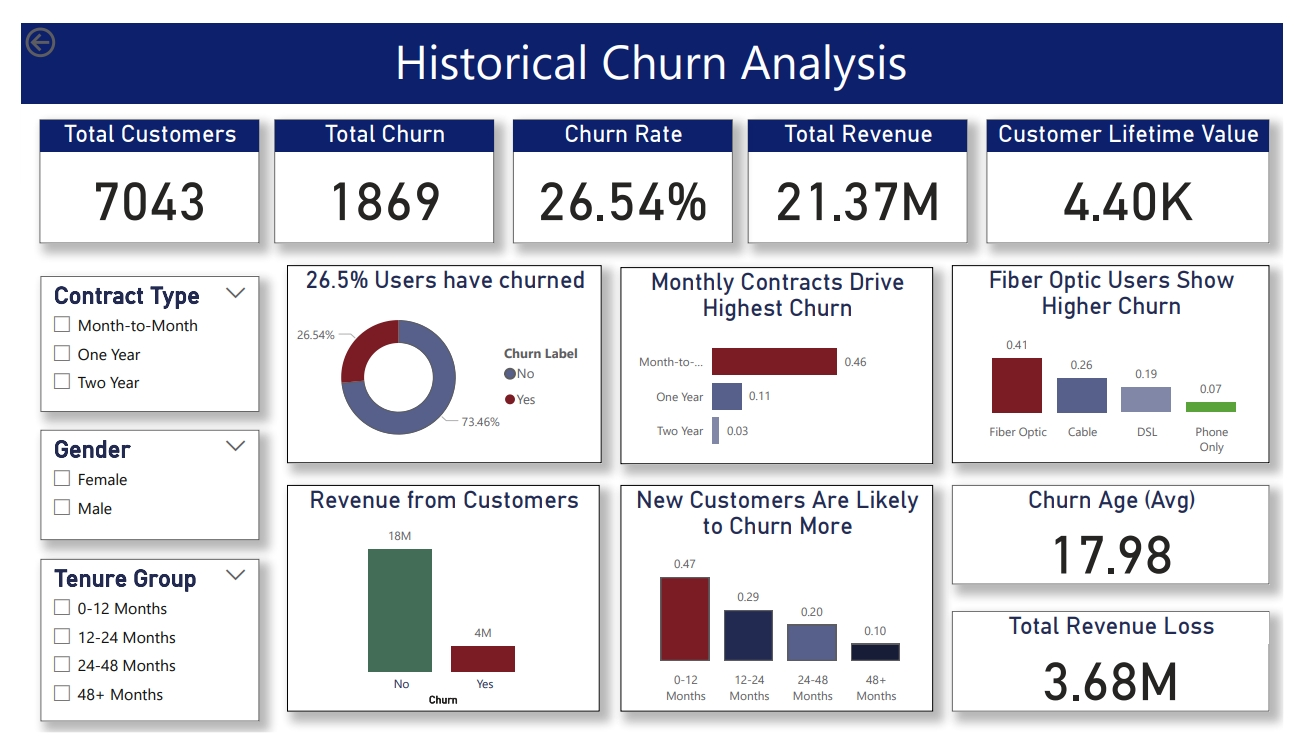

The page's visual inventory and layout, read from the dashboard file:
{"tool":"powerbi","page":{"name":"Overview","canvas":[1280,720],"ordinal":0},"visuals":[{"type":"card","title":"Total Customers","fields":{"Values":["Count(Fact_Churn.Customer ID)"]},"box":[18.9,97.9,222.6,126.3],"z":0},{"type":"textbox","box":[0,0,1279,82.1],"z":1000},{"type":"actionButton","box":[0,0,100,40],"z":2000},{"type":"card","title":"Total Churn","fields":{"Values":["Fact_Churn.Churn Customer Cnt"]},"box":[257.4,97.9,222.6,126.3],"z":3000},{"type":"card","title":"Customer Lifetime Value","fields":{"Values":["Avg(Fact_Churn.CLTV)"]},"box":[979,97.9,287.4,126.3],"z":4000},{"type":"card","title":"Total Revenue","fields":{"Values":["Sum(Dim_Services.Total Revenue)"]},"box":[737.4,97.9,222.6,126.3],"z":5000},{"type":"card","title":"Churn Rate","fields":{"Values":["Fact_Churn.Churn Rate"]},"box":[499,97.9,222.6,126.3],"z":6000},{"type":"slicer","fields":{"Values":["Dim_Services.Contract"]},"box":[19.7,257.4,222.6,137.8],"z":7000},{"type":"slicer","fields":{"Values":["Dim_Services.Tenure Group"]},"box":[19.7,543.6,222.6,165],"z":8000},{"type":"slicer","fields":{"Values":["Dim_Demographics.Gender"]},"box":[19.7,413.4,222.6,112.1],"z":9000},{"type":"barChart","title":"Monthly Contracts Drive Highest Churn","fields":{"Category":["Dim_Services.Contract"],"Y":["Fact_Churn.Churn Rate"]},"box":[607.9,247.9,317.4,200.5],"z":10000},{"type":"clusteredColumnChart","title":"New Customers Are Likely to Churn More","fields":{"Category":["Dim_Services.Tenure Group"],"Y":["Fact_Churn.Churn Rate"]},"box":[607.9,469,317.4,230.5],"z":11000},{"type":"clusteredColumnChart","title":"Fiber Optic Users Show Higher Churn","fields":{"Y":["Fact_Churn.Churn Rate"],"Category":["Dim_Services.Internet Type"]},"box":[944.2,246.3,322.1,200.5],"z":12000},{"type":"clusteredColumnChart","title":"Revenue from Customers","fields":{"Category":["Fact_Churn.Churn Label"],"Y":["Sum(Fact_Churn.Total Revenue)"]},"box":[270,469,317.4,230.5],"z":13000},{"type":"donutChart","title":"26.5% Users have churned","fields":{"Category":["Fact_Churn.Churn Label"],"Y":["CountNonNull(Fact_Churn.Customer ID)"]},"box":[270,246.3,319,200.5],"z":14000},{"type":"card","title":"Churn Age (Avg)","fields":{"Values":["Fact_Churn.Avg Tenure Churned"]},"box":[944.2,469,322.1,101.1],"z":15000},{"type":"card","title":"Total Revenue Loss","fields":{"Values":["Fact_Churn.Revenue At Risk"]},"box":[944.2,596.8,322.1,102.6],"z":16000}]}

Visuals, with their boxes in screenshot pixels (x1, y1, x2, y2), scaled from the page's 1280x720 canvas onto the 1300x753 screenshot:
"Total Customers" card: (left=19, top=102, right=245, bottom=234)
textbox: (left=0, top=0, right=1299, bottom=86)
actionButton: (left=0, top=0, right=102, bottom=42)
"Total Churn" card: (left=261, top=102, right=488, bottom=234)
"Customer Lifetime Value" card: (left=994, top=102, right=1286, bottom=234)
"Total Revenue" card: (left=749, top=102, right=975, bottom=234)
"Churn Rate" card: (left=507, top=102, right=733, bottom=234)
slicer - Dim_Services.Contract: (left=20, top=269, right=246, bottom=413)
slicer - Dim_Services.Tenure Group: (left=20, top=569, right=246, bottom=741)
slicer - Dim_Demographics.Gender: (left=20, top=432, right=246, bottom=550)
"Monthly Contracts Drive Highest Churn" barChart: (left=617, top=259, right=940, bottom=469)
"New Customers Are Likely to Churn More" clusteredColumnChart: (left=617, top=490, right=940, bottom=732)
"Fiber Optic Users Show Higher Churn" clusteredColumnChart: (left=959, top=258, right=1286, bottom=467)
"Revenue from Customers" clusteredColumnChart: (left=274, top=490, right=597, bottom=732)
"26.5% Users have churned" donutChart: (left=274, top=258, right=598, bottom=467)
"Churn Age (Avg)" card: (left=959, top=490, right=1286, bottom=596)
"Total Revenue Loss" card: (left=959, top=624, right=1286, bottom=731)
